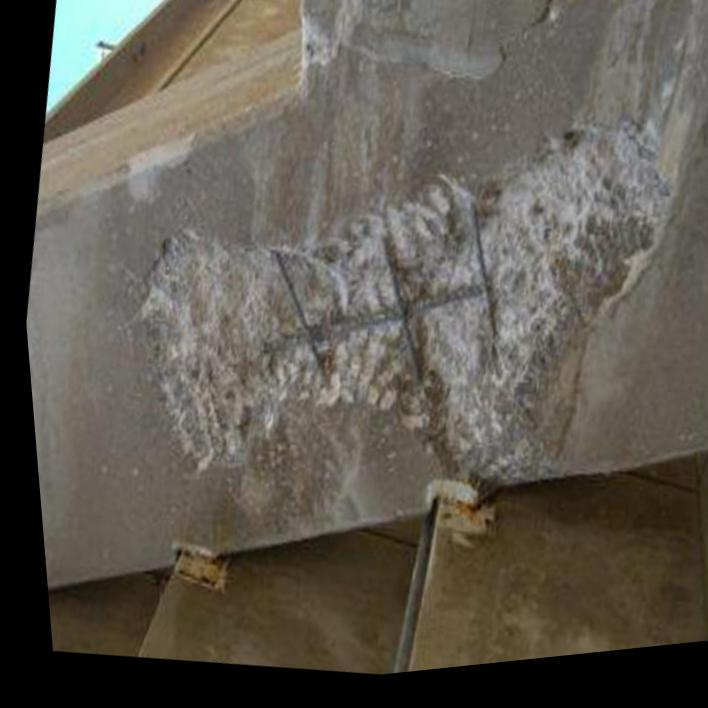damage: (136, 133, 665, 503)
